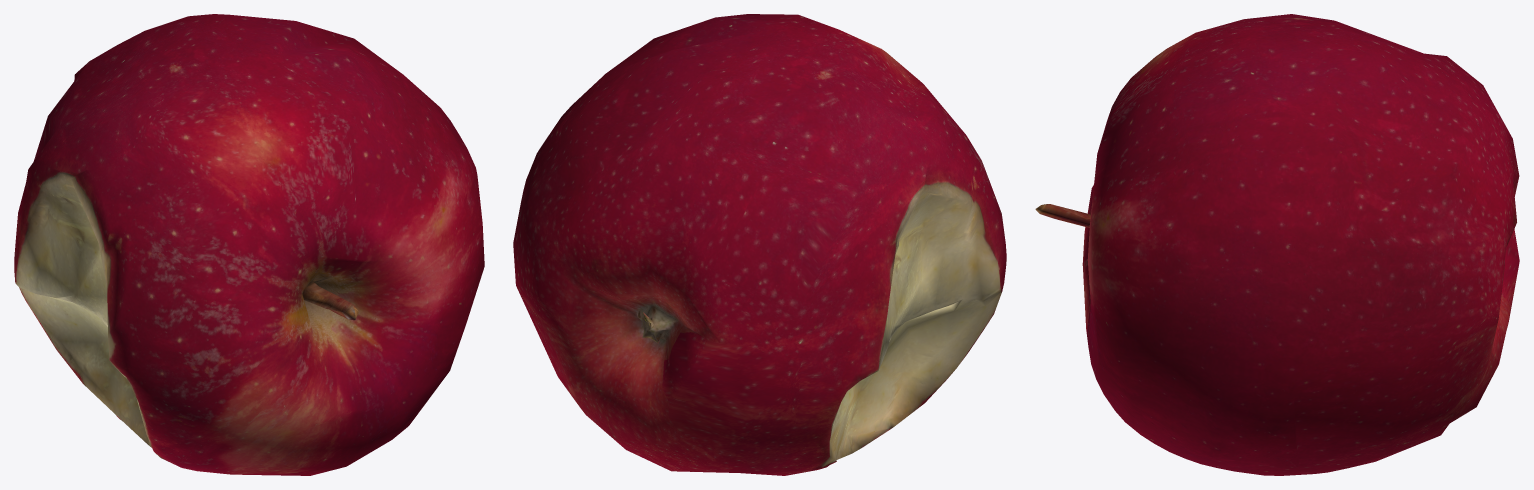
Rendered from apple_mid_lod_050.obj.
The picture shows the model from 3 angles, left to right: view 1: azimuth 30°, elevation 25°; view 2: azimuth 150°, elevation 25°; view 3: azimuth 270°, elevation 25°; orthographic projection.
Size of the model in its own units: 0.7476 by 0.7565 by 0.7978.
Materials: 1 (1 with a texture image).
